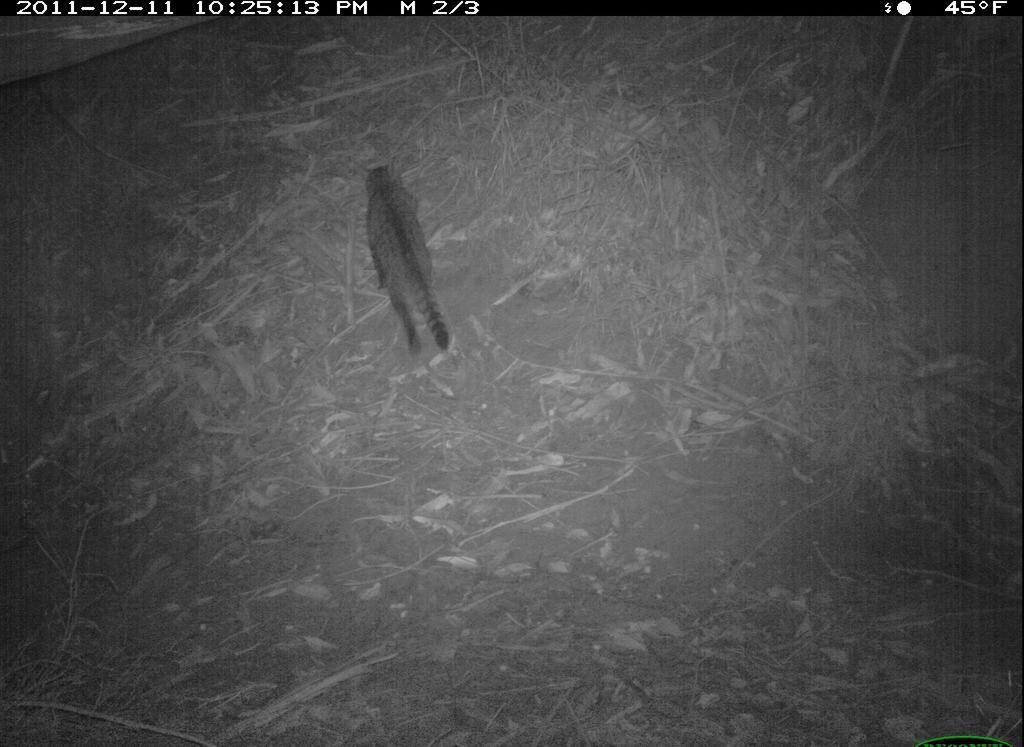cat: (356, 157, 469, 373)
